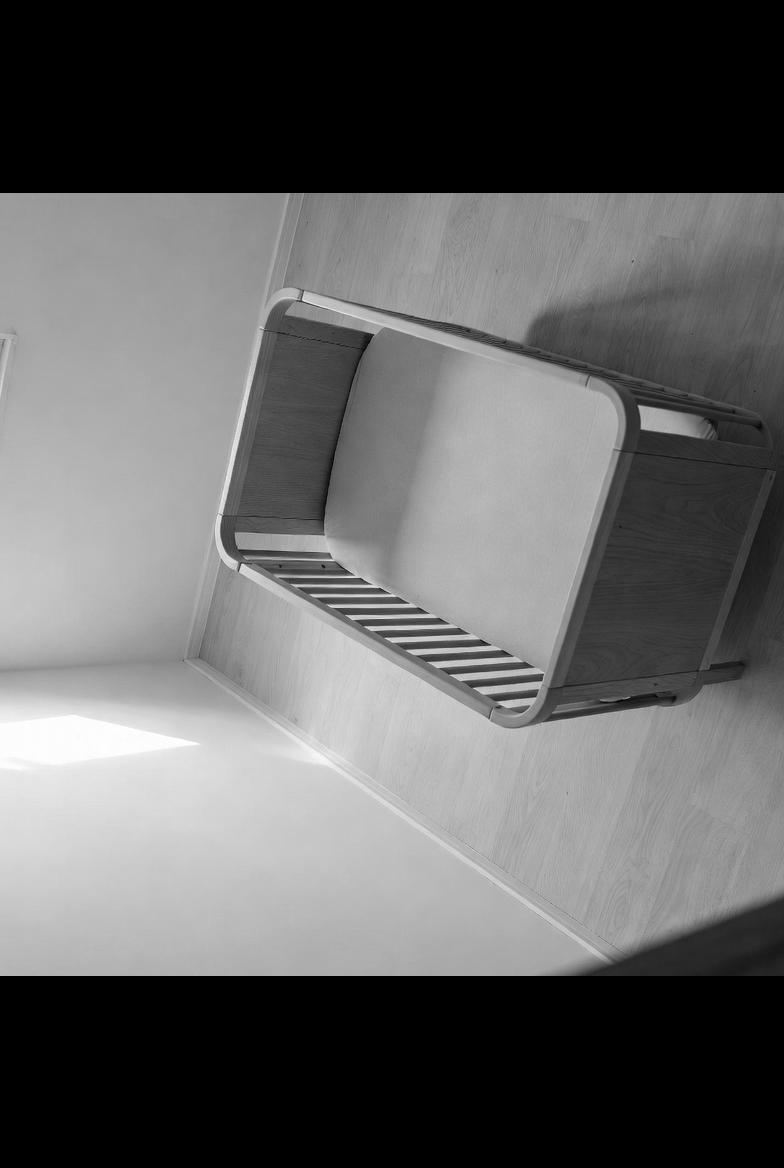crib: (178, 276, 784, 741)
